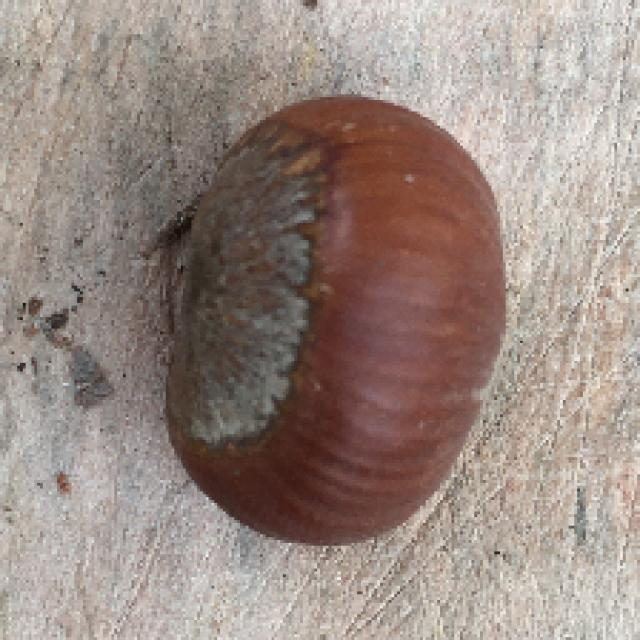qualityHazelnut: (167, 91, 514, 554)
